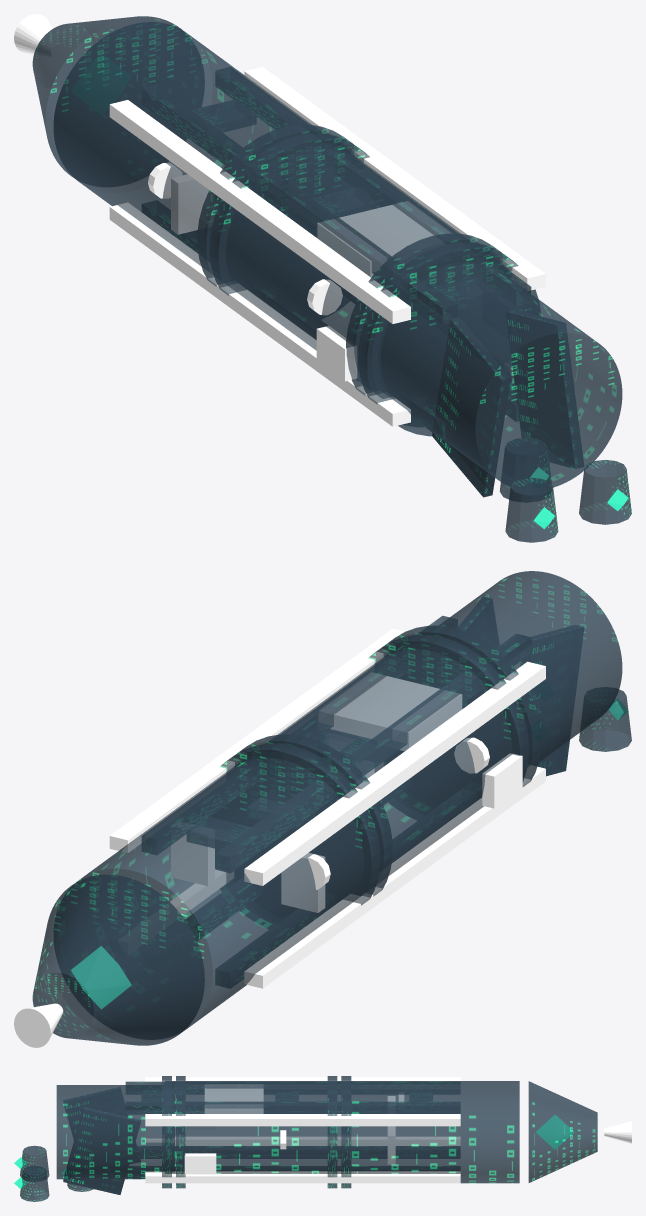
The model's file is icbm.glb.
The picture shows the model from 3 angles, top to bottom: view 1: azimuth 30°, elevation 25°; view 2: azimuth 150°, elevation 25°; view 3: azimuth 270°, elevation 25°; orthographic projection. The views are drawn at different scales.
Visible parts, largest first — view 1: guerrier; view 2: guerrier; view 3: guerrier.
Part boxes in pixels (x1,y1,x2,y2): guerrier: (14,14,631,542); guerrier: (14,571,631,1047); guerrier: (14,1076,631,1201).
Size of the model in its own units: 0.58 by 0.585 by 3.14.
